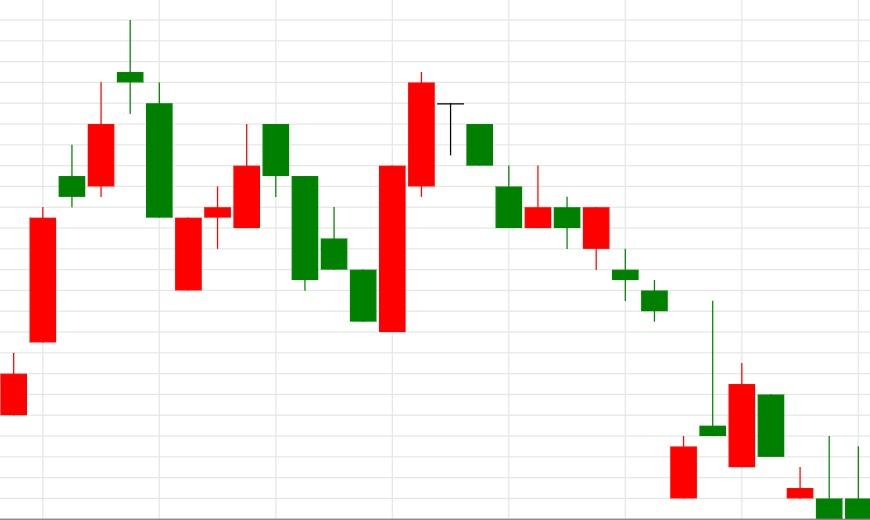bullish_engulfing_rise: (262, 123, 407, 334)
